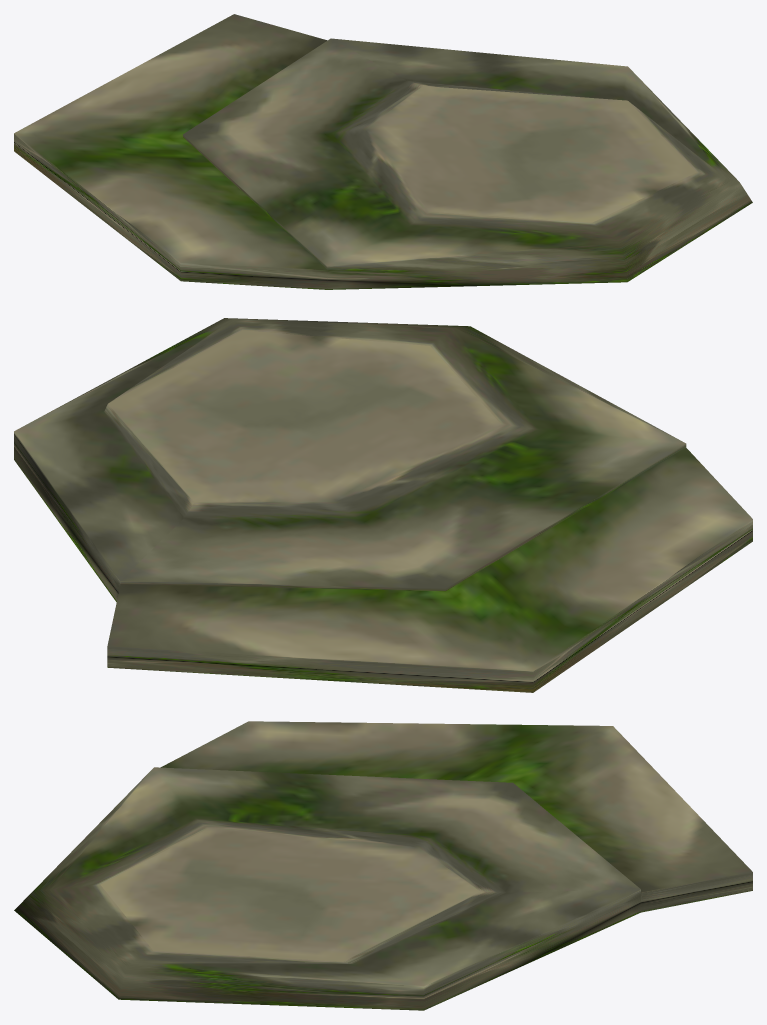
File: RockFormation_4_5 (15).fbx
3 views of the same model, one above another, from view 1: azimuth 30°, elevation 25°; view 2: azimuth 150°, elevation 25°; view 3: azimuth 270°, elevation 25° (orthographic). The views are drawn at different scales.
Visible parts, largest first — view 1: RockFormation_4_5 (15); view 2: RockFormation_4_5 (15); view 3: RockFormation_4_5 (15).
Boxes of the visible parts, x1=… form: RockFormation_4_5 (15): x1=14, y1=14, x2=752, y2=289; RockFormation_4_5 (15): x1=14, y1=318, x2=752, y2=692; RockFormation_4_5 (15): x1=14, y1=721, x2=752, y2=1010.
Size of the model in its own units: 5747 by 287 by 6648.
